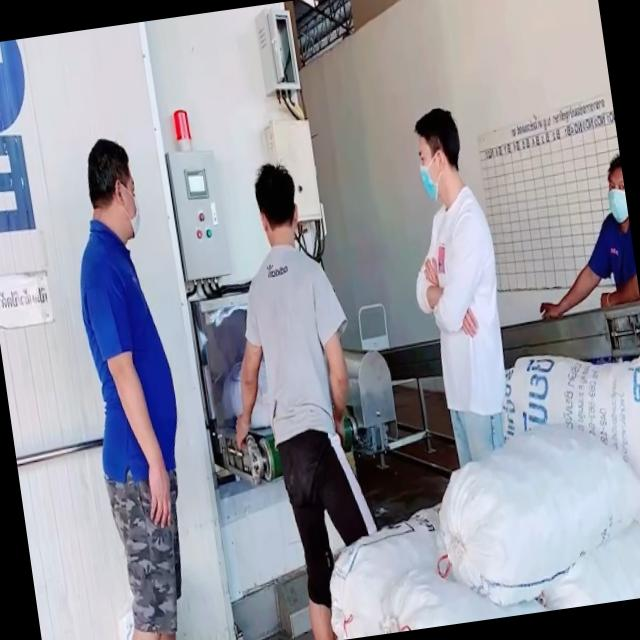ice-bag: (428, 412, 640, 612), (304, 483, 471, 640), (500, 329, 640, 486), (364, 556, 577, 637), (536, 511, 640, 612), (213, 342, 283, 430)
